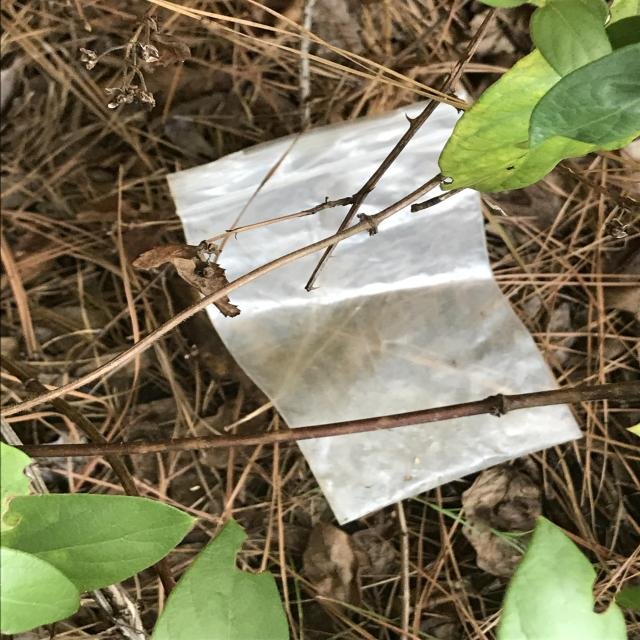litter: (165, 90, 579, 526)
